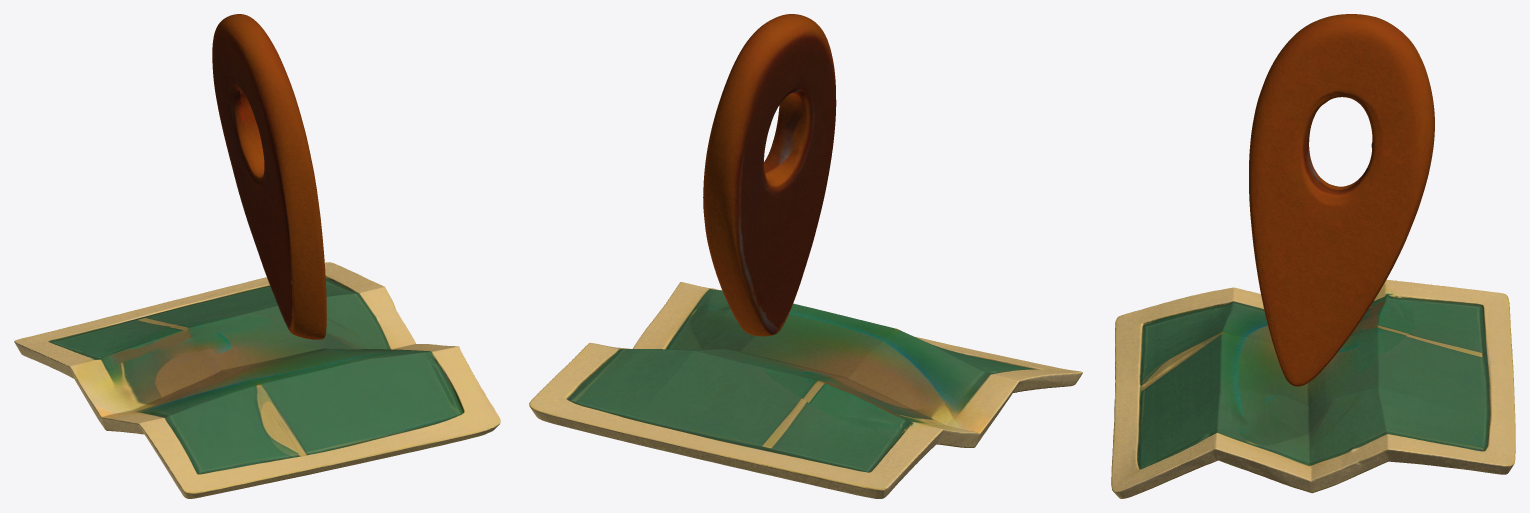
The model's file is MapaPineska.glb.
3 views of the same model, side by side, from view 1: azimuth 30°, elevation 25°; view 2: azimuth 150°, elevation 25°; view 3: azimuth 270°, elevation 25° (orthographic). The views are drawn at different scales.
Visible parts, largest first — view 1: tripo_node_2f92d493.001, tripo_node_2f92d493; view 2: tripo_node_2f92d493.001, tripo_node_2f92d493; view 3: tripo_node_2f92d493.001, tripo_node_2f92d493.
Part boxes in pixels (x1,y1,x2,y2): tripo_node_2f92d493.001: [14, 262, 500, 498]; tripo_node_2f92d493: [212, 14, 326, 339]; tripo_node_2f92d493.001: [529, 282, 1082, 498]; tripo_node_2f92d493: [703, 14, 836, 336]; tripo_node_2f92d493.001: [1111, 279, 1515, 498]; tripo_node_2f92d493: [1249, 14, 1434, 386].
Bounding box in the file's own units: 0.9992 × 1.09 × 0.9775.
Materials: 1 (1 with a texture image).
